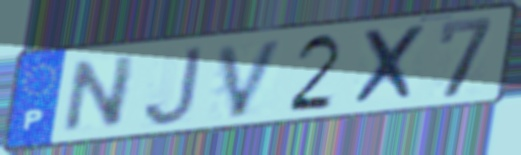2: (287, 32, 346, 115)
7: (435, 13, 498, 101)
J: (141, 43, 206, 128)
N: (58, 52, 141, 136)
V: (214, 36, 288, 121)
X: (349, 22, 430, 109)
